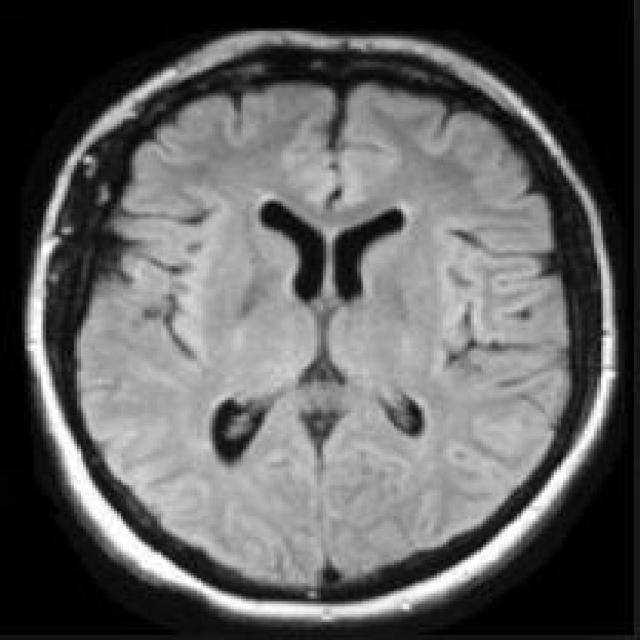notumor: (28, 31, 615, 627)
